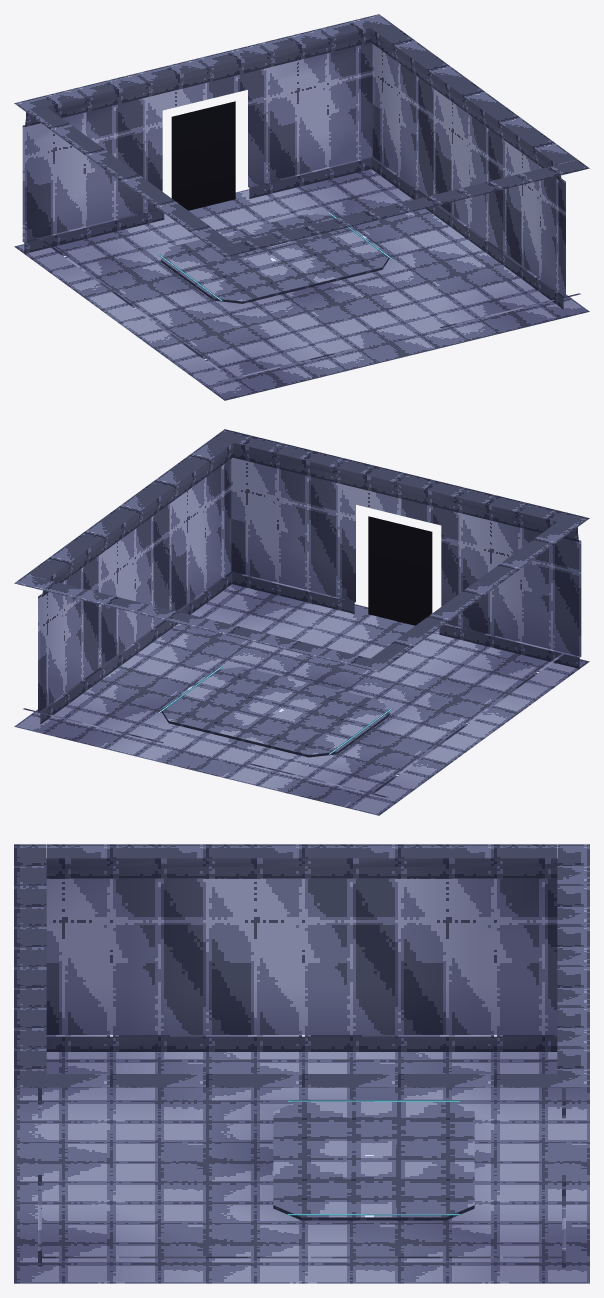
Rendered from cyroom.club.glb.
The picture shows the model from 3 angles, top to bottom: view 1: azimuth 30°, elevation 25°; view 2: azimuth 150°, elevation 25°; view 3: azimuth 270°, elevation 25°; orthographic projection. The views are drawn at different scales.
Parts seen in each view (by area): view 1: kit_shell_walls, kit_shell_floor, kit_trim, kit_card_lights; view 2: kit_shell_walls, kit_shell_floor, kit_trim, kit_card_lights; view 3: kit_shell_walls, kit_shell_floor, kit_trim, kit_card_lights.
Boxes of the visible parts, <box> form: kit_shell_walls: <box>14,14,589,383</box>; kit_shell_floor: <box>14,169,589,400</box>; kit_trim: <box>161,213,390,303</box>; kit_card_lights: <box>158,101,392,300</box>; kit_shell_walls: <box>14,429,589,798</box>; kit_shell_floor: <box>14,584,589,815</box>; kit_trim: <box>161,667,390,757</box>; kit_card_lights: <box>158,516,432,754</box>; kit_shell_walls: <box>14,844,589,1268</box>; kit_shell_floor: <box>14,1052,589,1283</box>; kit_trim: <box>273,1099,474,1220</box>; kit_card_lights: <box>287,1100,460,1215</box>.
Bounding box in the file's own units: 12 × 4.54 × 12.
7 materials, 7 textured.
